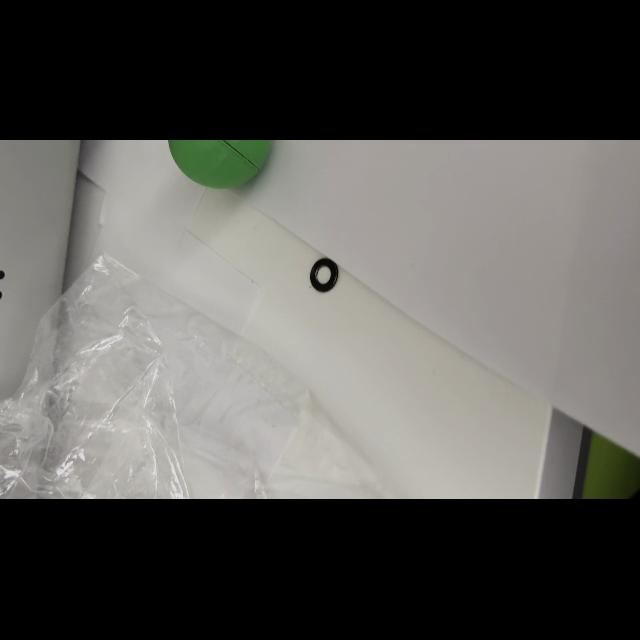objects: (165, 140, 291, 194)
